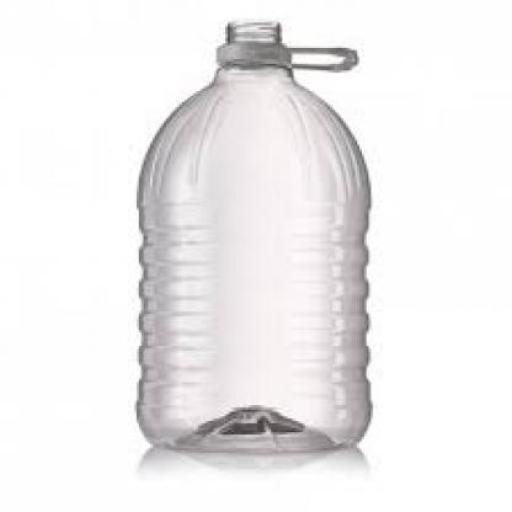plastic: (134, 18, 369, 457), (214, 36, 357, 71)
